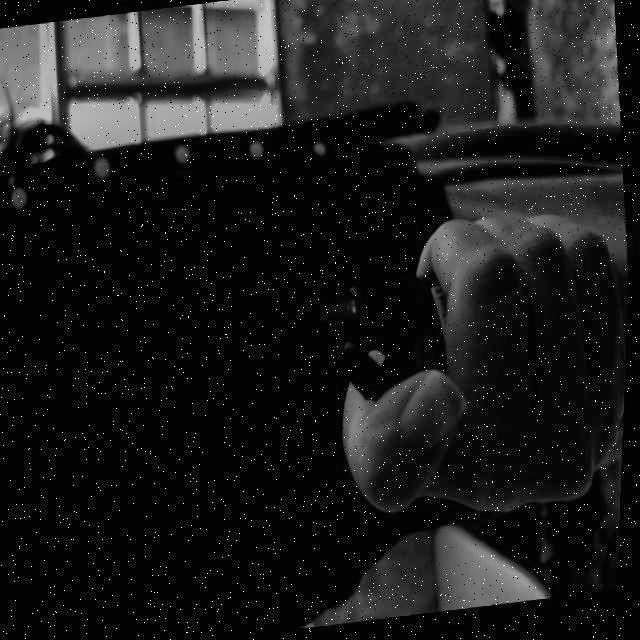Fire: (301, 295, 362, 338)
